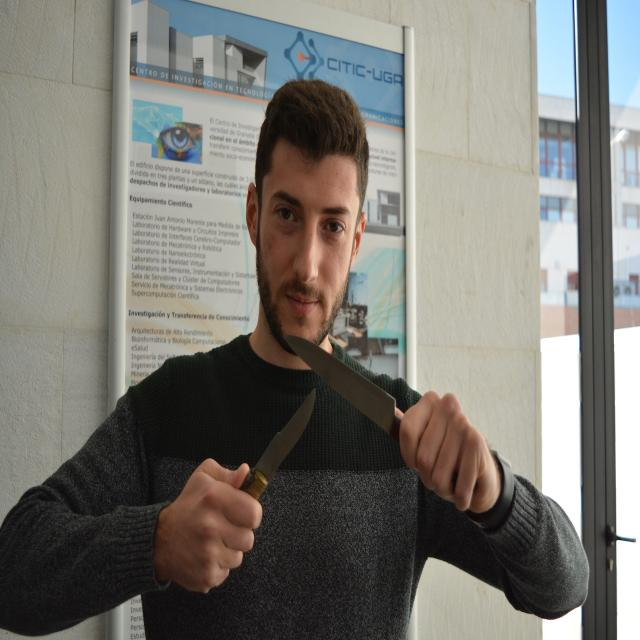knife: (286, 334, 403, 440), (247, 387, 322, 497)
